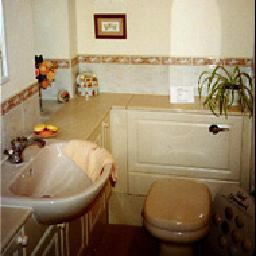Lavamanos: (14, 136, 116, 222)
Sanitario: (144, 170, 217, 254)
